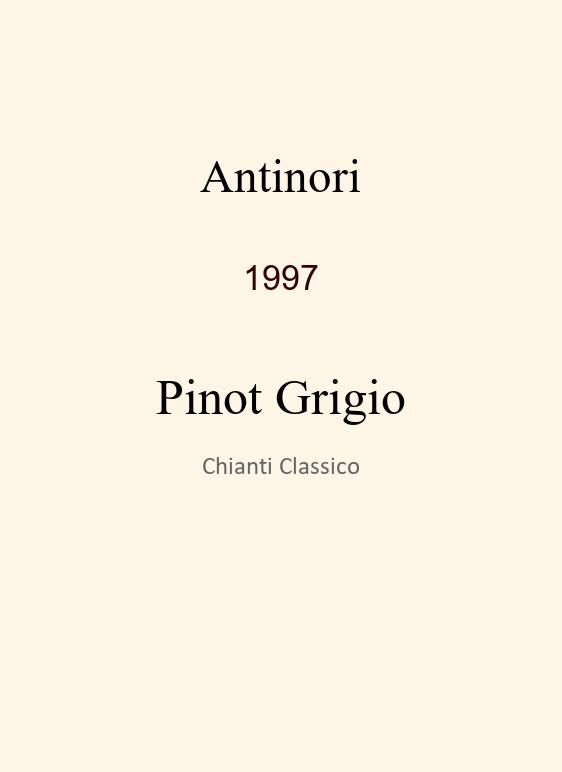brand: (200, 150, 361, 183)
region: (202, 455, 360, 472)
variety: (156, 369, 406, 415)
vintage: (243, 259, 319, 284)
